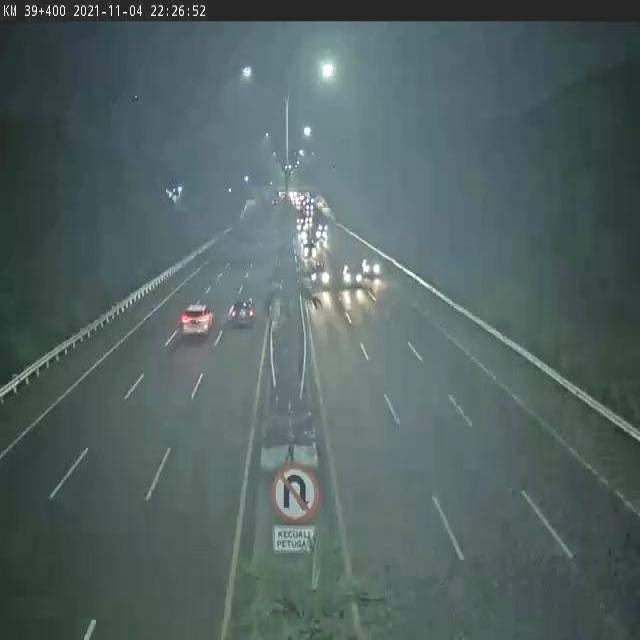Car: (178, 290, 226, 348), (227, 290, 266, 343), (306, 267, 336, 294), (358, 253, 383, 280), (343, 262, 365, 286), (301, 242, 318, 264)
